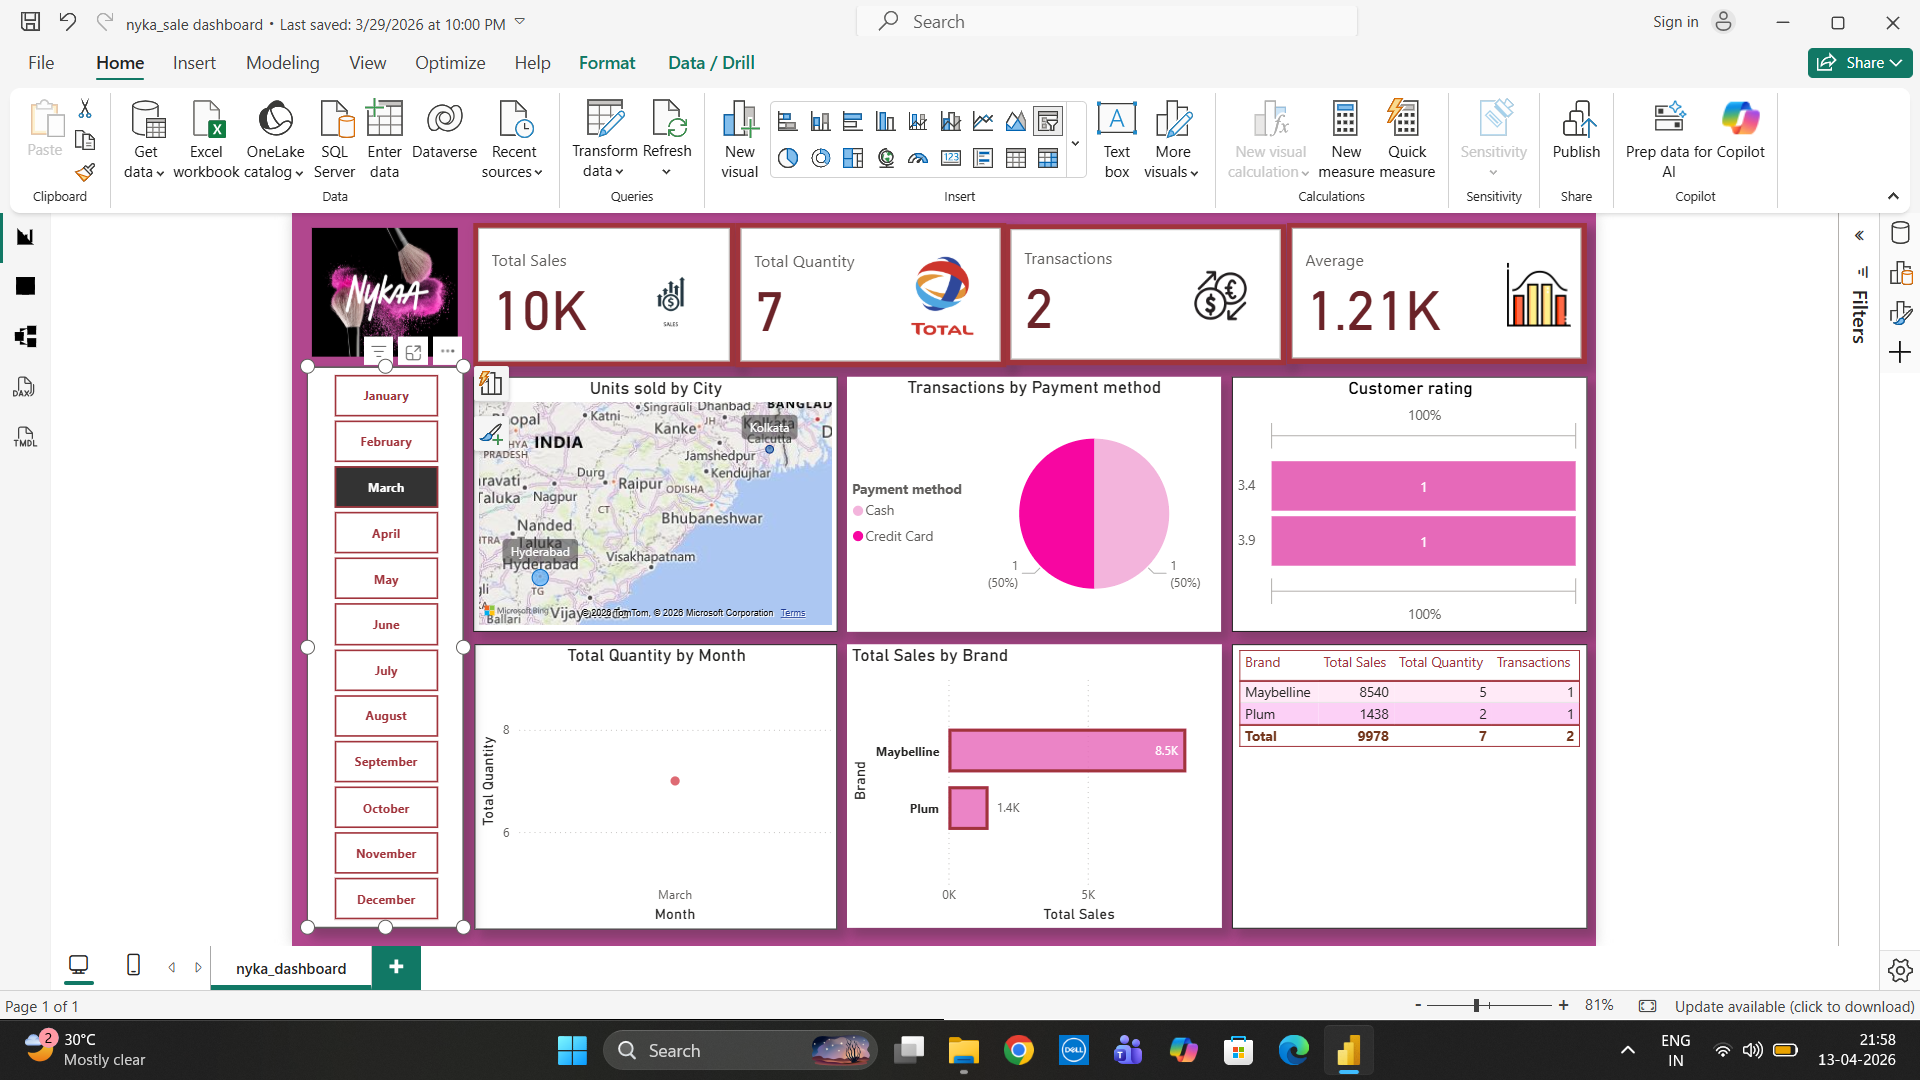

The dashboard page shown, as its layout file describes it:
{"tool":"powerbi","page":{"name":"nyka_dashboard","canvas":[1280,720],"ordinal":0},"visuals":[{"type":"cardVisual","fields":{"Data":["NykaSalesData.Total Sales"]},"box":[177.9,9.8,257.7,141.1],"z":3000},{"type":"cardVisual","fields":{"Data":["NykaSalesData.Total Quantity"]},"box":[435.7,10.1,265.5,141.4],"z":4000},{"type":"cardVisual","fields":{"Data":["NykaSalesData.Transactions"]},"box":[701.2,11.5,275.6,138.5],"z":5000},{"type":"cardVisual","fields":{"Data":["NykaSalesData.Average"]},"box":[976.7,10.1,294.3,138.5],"z":6000},{"type":"map","title":"Units sold by City","fields":{"Category":["NykaSalesData.City"],"Size":["NykaSalesData.Total Sales"]},"box":[177.5,161.2,357.5,250],"z":6001},{"type":"lineChart","fields":{"Category":["NykaSalesData.Date.Variation.Date Hierarchy.Month"],"Y":["NykaSalesData.Total Quantity"]},"box":[179.1,423.3,355.8,279.8],"z":6002},{"type":"pieChart","fields":{"Category":["NykaSalesData.Payment method"],"Y":["NykaSalesData.Transactions"]},"box":[545,161.2,367.5,250],"z":6003},{"type":"funnel","title":"Customer rating","fields":{"Category":["NykaSalesData.Customer rating"],"Y":["CountNonNull(NykaSalesData.Customer rating)"]},"box":[922.5,161.2,348.8,250],"z":6004},{"type":"barChart","fields":{"Category":["NykaSalesData.Brand"],"Y":["NykaSalesData.Total Sales"]},"box":[544.8,423.3,368.1,278.5],"z":6005},{"type":"tableEx","fields":{"Values":["NykaSalesData.Brand","NykaSalesData.Total Sales","NykaSalesData.Total Quantity","NykaSalesData.Transactions"]},"box":[923,423,349,279],"z":6006},{"type":"slicer","fields":{"Values":["NykaSalesData.Date.Variation.Date Hierarchy.Month"]},"box":[14.7,150.9,153.4,550.9],"z":6007},{"type":"image","box":[14.7,9.8,153.4,136.2],"z":6008}]}

Visuals, with their boxes on the page's 1280x720 design canvas (x1, y1, x2, y2). These are canvas units, not pixel positions in the 1920x1080 screenshot, which may show the page scaled, cropped or inside an application window:
cardVisual - NykaSalesData.Total Sales: crop(178, 10, 436, 151)
cardVisual - NykaSalesData.Total Quantity: crop(436, 10, 701, 152)
cardVisual - NykaSalesData.Transactions: crop(701, 12, 977, 150)
cardVisual - NykaSalesData.Average: crop(977, 10, 1271, 149)
"Units sold by City" map: crop(178, 161, 535, 411)
lineChart - NykaSalesData.Date.Variation.Date Hierarchy.Month x NykaSalesData.Total Quantity: crop(179, 423, 535, 703)
pieChart - NykaSalesData.Payment method x NykaSalesData.Transactions: crop(545, 161, 912, 411)
"Customer rating" funnel: crop(922, 161, 1271, 411)
barChart - NykaSalesData.Brand x NykaSalesData.Total Sales: crop(545, 423, 913, 702)
tableEx - NykaSalesData.Brand x NykaSalesData.Total Sales: crop(923, 423, 1272, 702)
slicer - NykaSalesData.Date.Variation.Date Hierarchy.Month: crop(15, 151, 168, 702)
image: crop(15, 10, 168, 146)
